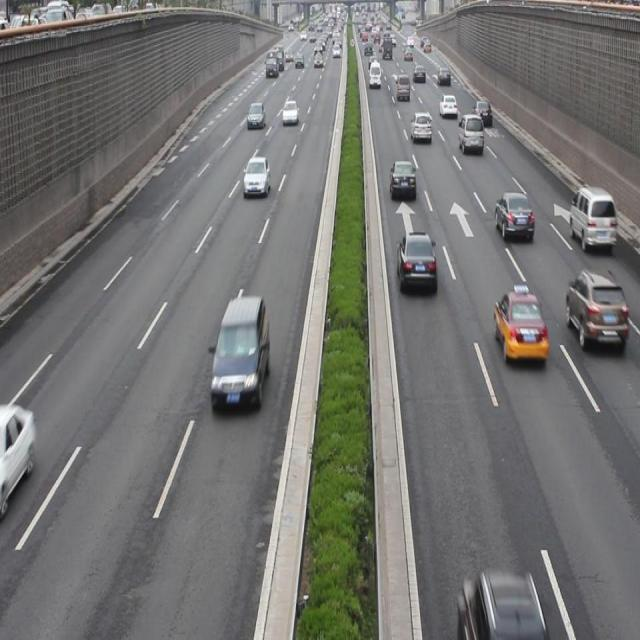car: (458, 570, 547, 640), (565, 266, 625, 348), (494, 290, 546, 362), (397, 228, 434, 292), (495, 190, 531, 240), (389, 159, 416, 200), (243, 156, 269, 196), (458, 112, 483, 153), (410, 110, 431, 142), (247, 101, 265, 129), (472, 98, 490, 126), (438, 92, 456, 119), (282, 100, 298, 124)
truck: (210, 297, 268, 407), (568, 186, 615, 250)
